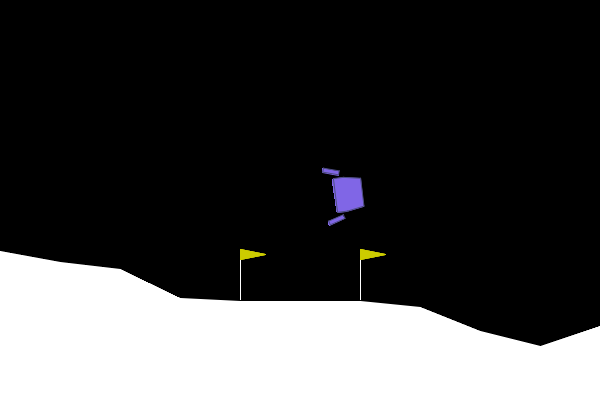lander: (321, 163, 368, 227)
